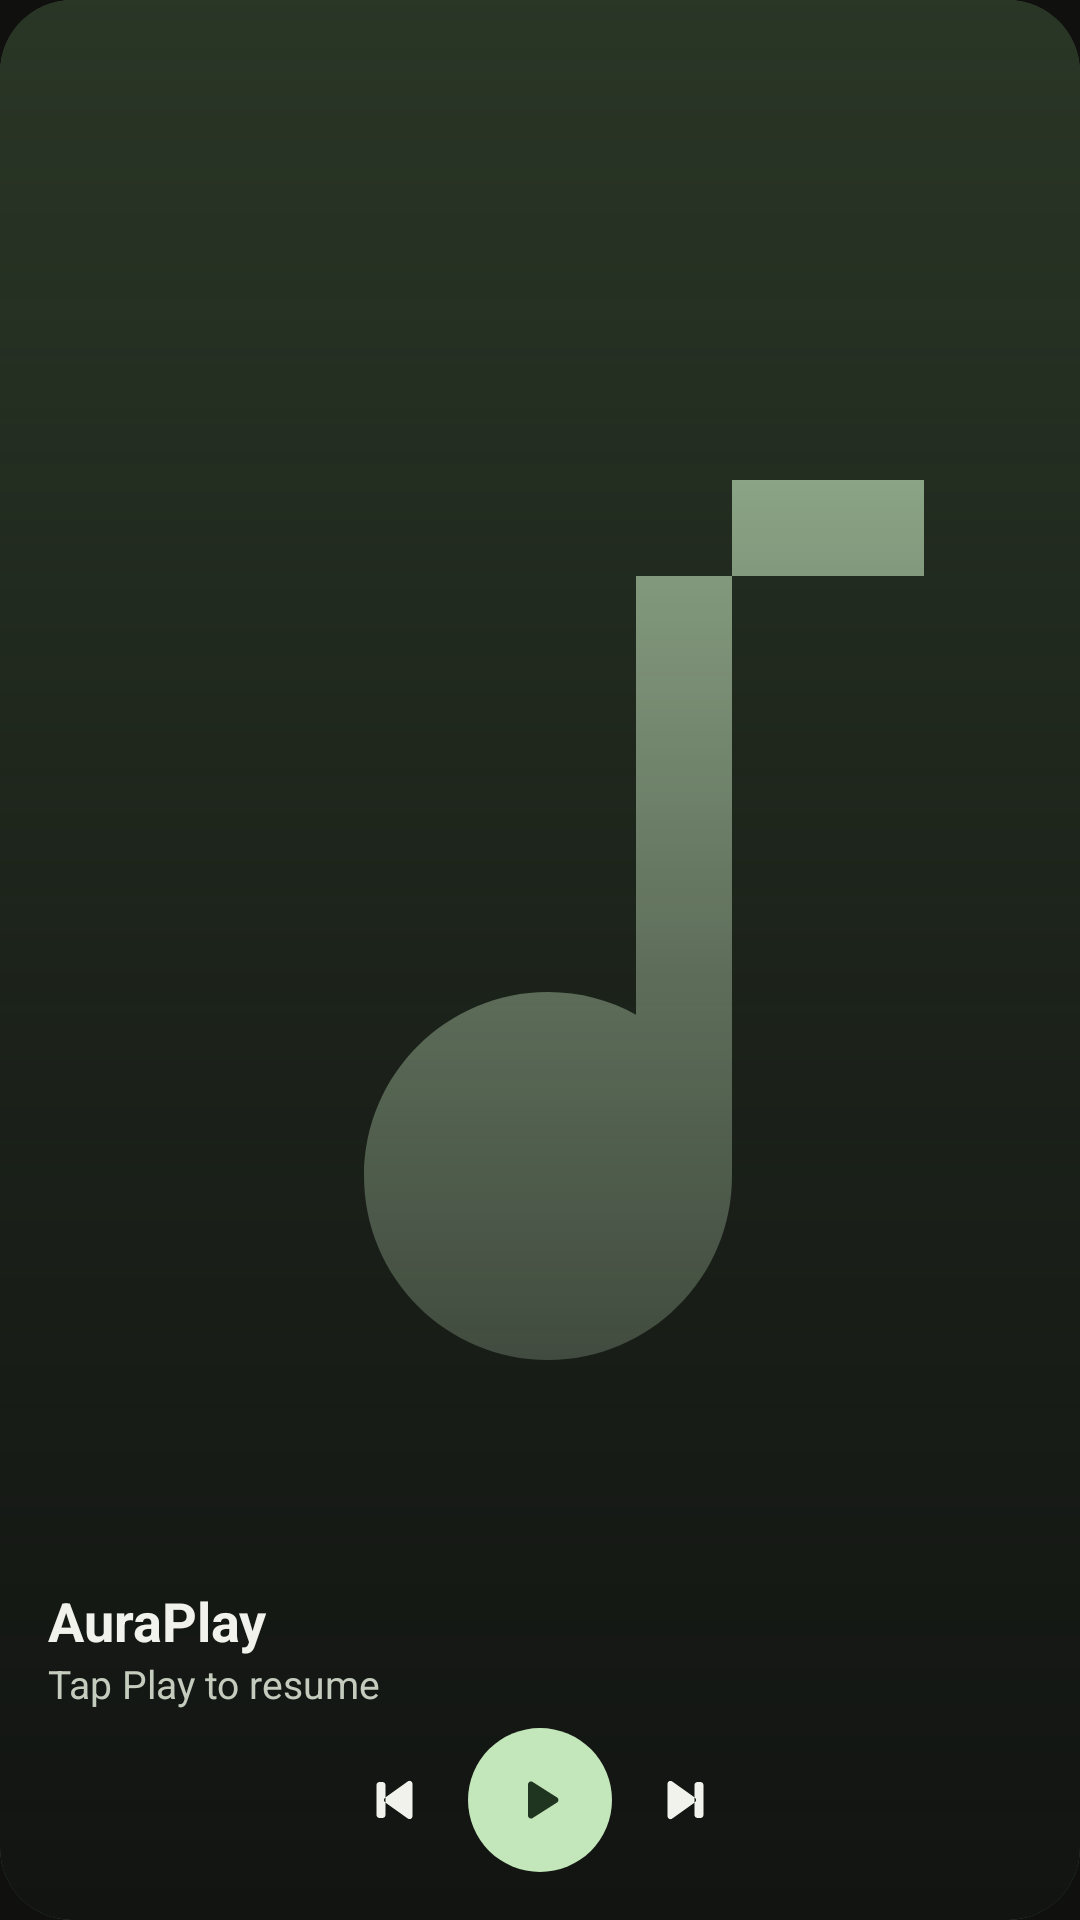

Screen size 1080x1920. Icon name, then its box in pixels as (x1, y1, x2, y2):
Next track: (667, 1781, 704, 1820)
Previous track: (376, 1780, 413, 1819)
